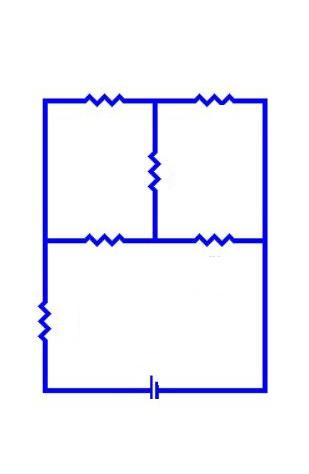resistor: (59, 214, 125, 261), (187, 74, 259, 112), (25, 289, 70, 348), (73, 79, 142, 117), (182, 219, 245, 257)
